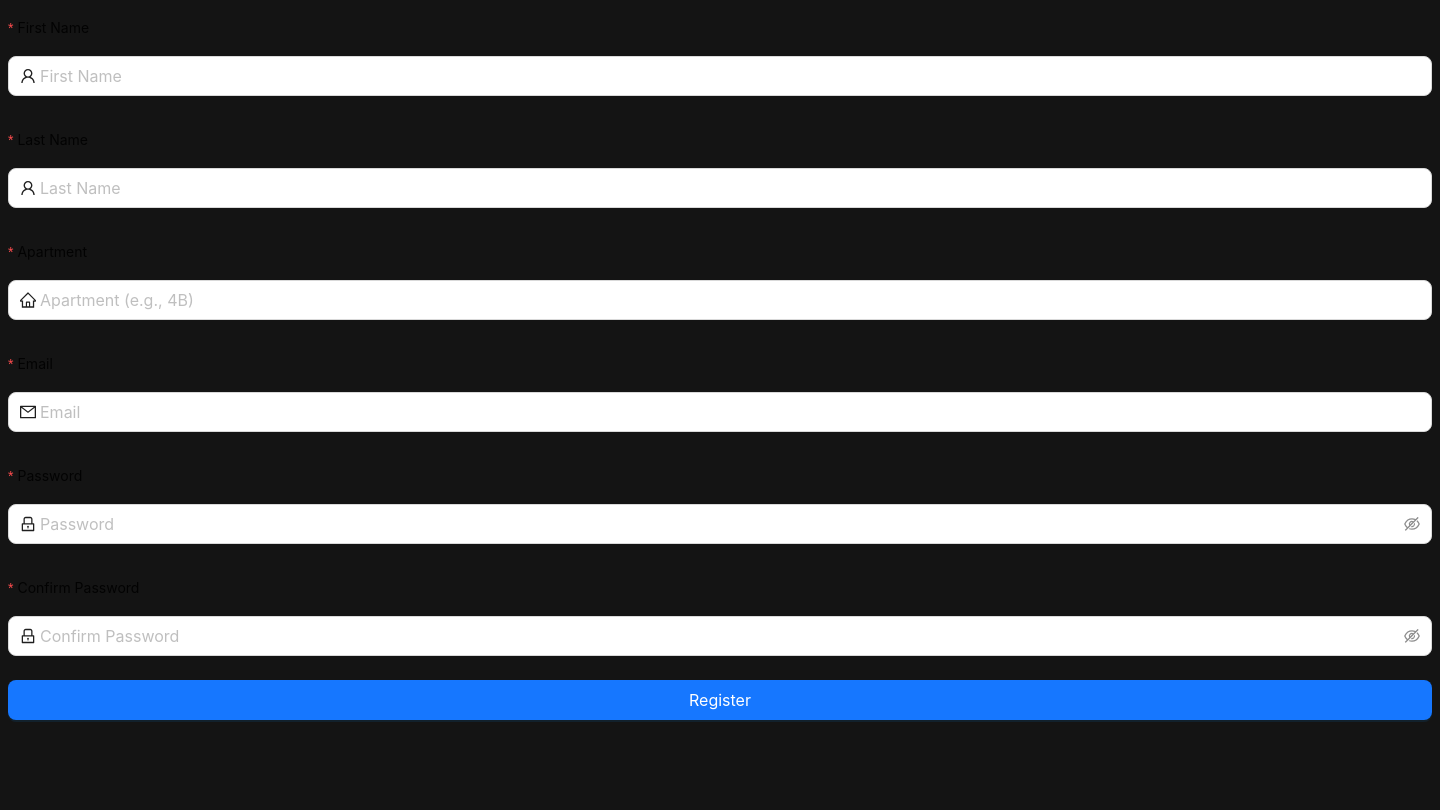
RegisterForm › should show an error when the password typed is too short
Type "Test" into the password field labelled "Password" at [720, 524], box [40,512,1400,536]
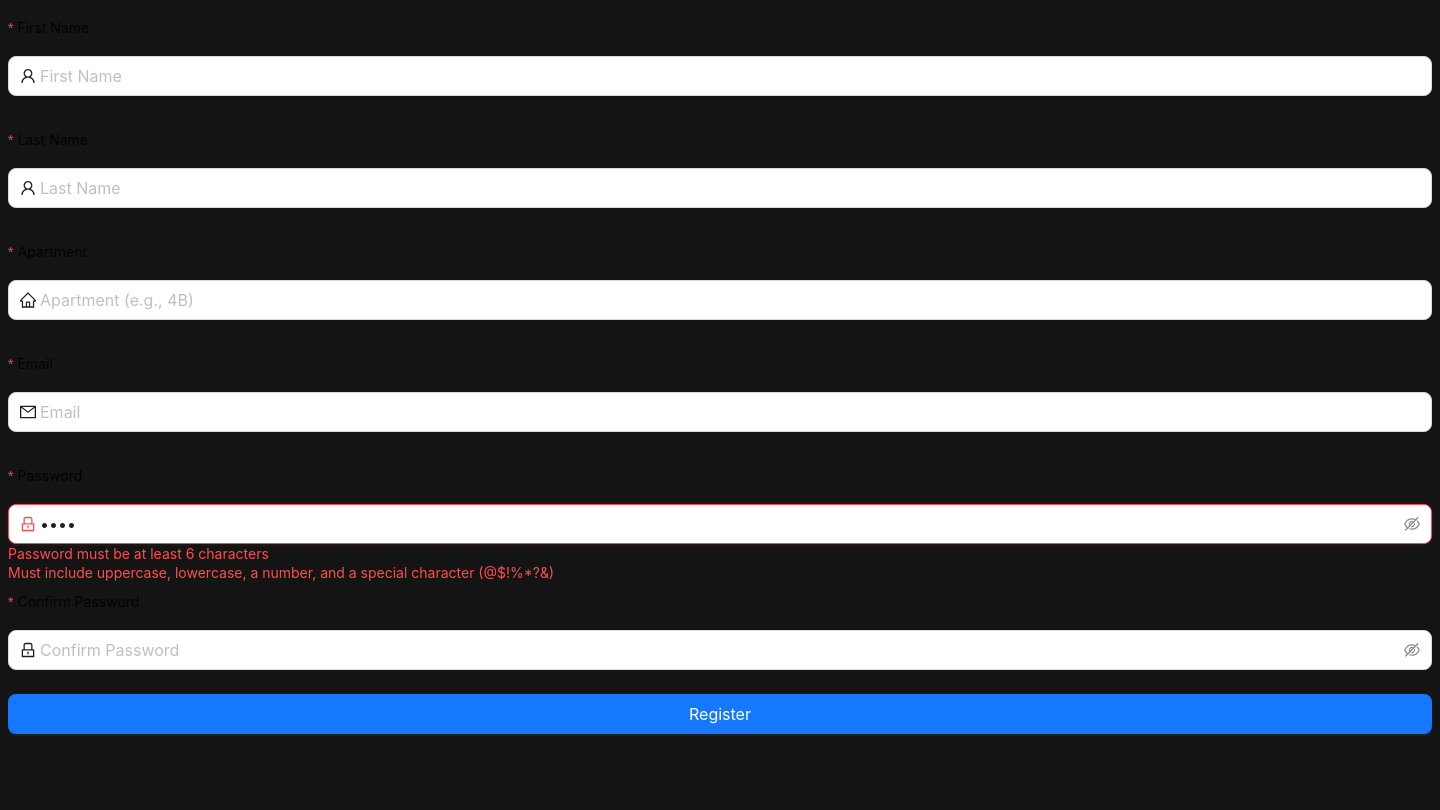
Click the button "Register" at [720, 714], box [8,694,1432,734]
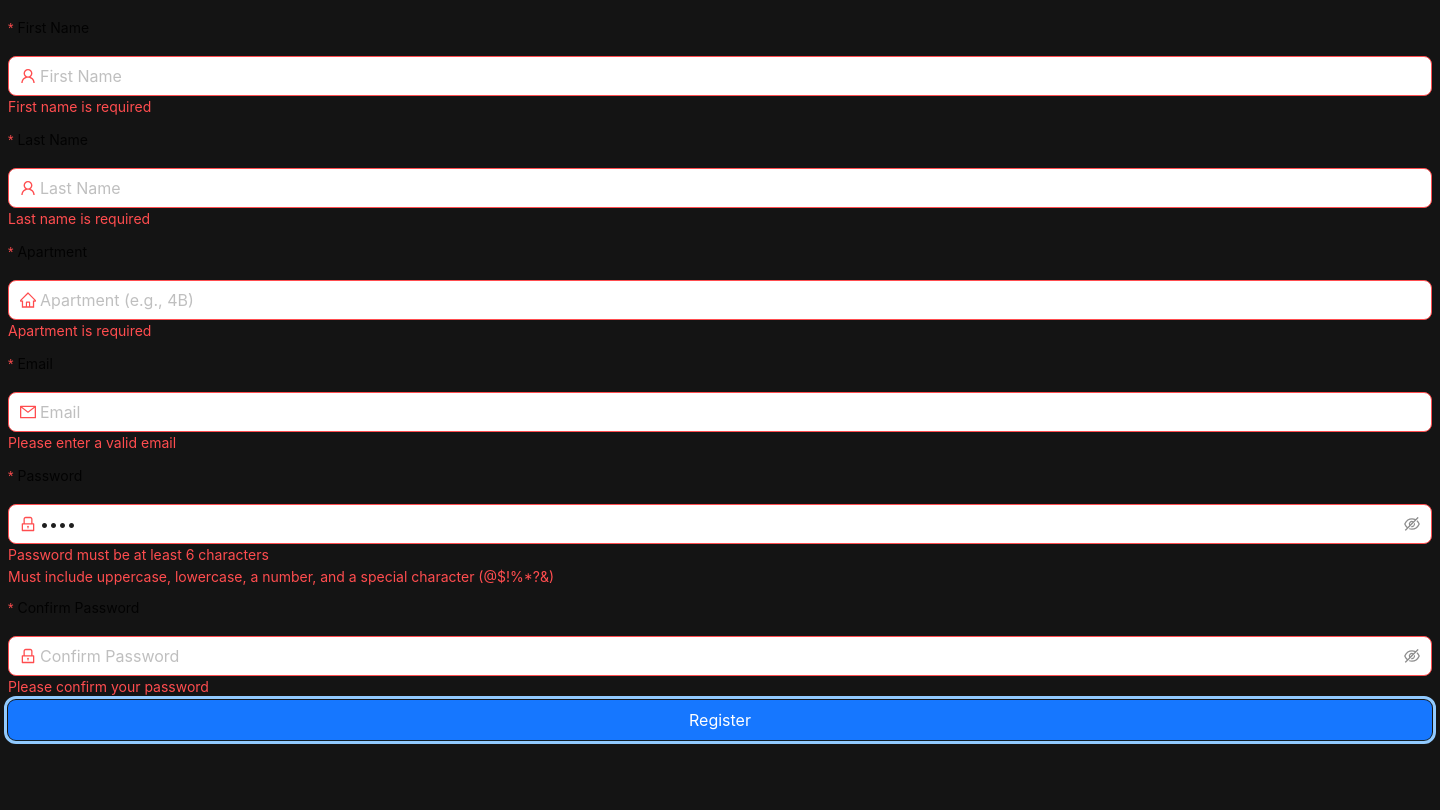
Expected: the text "Password must be at least 6 characters" is shown, [8,546,269,563]
